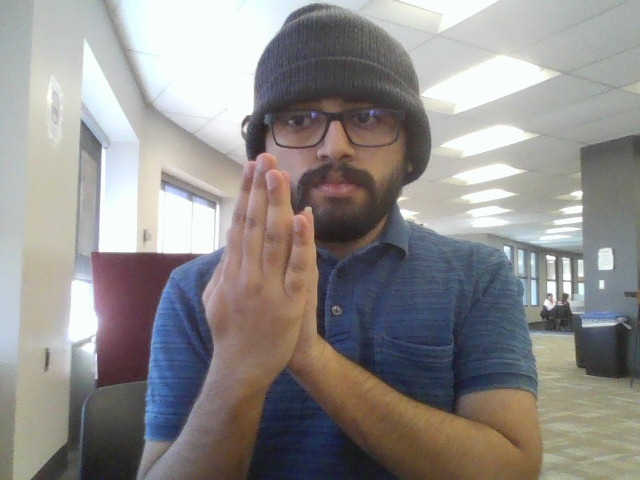start: (199, 151, 332, 385)
